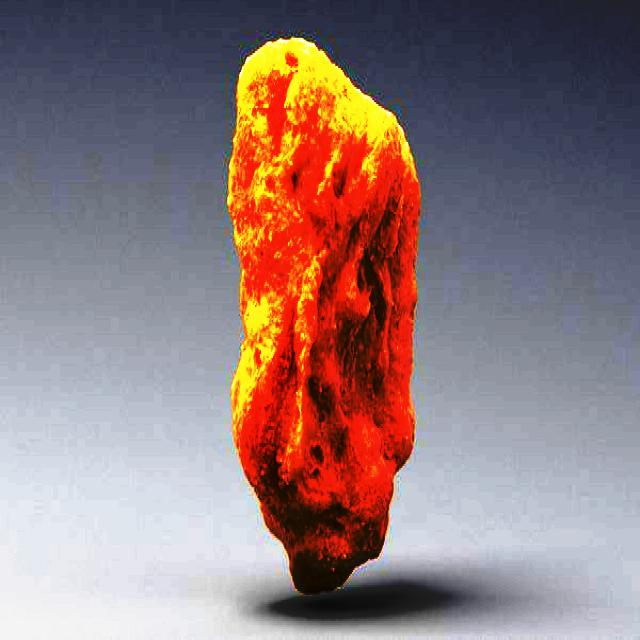chicken_nuggets: (224, 16, 427, 607)
